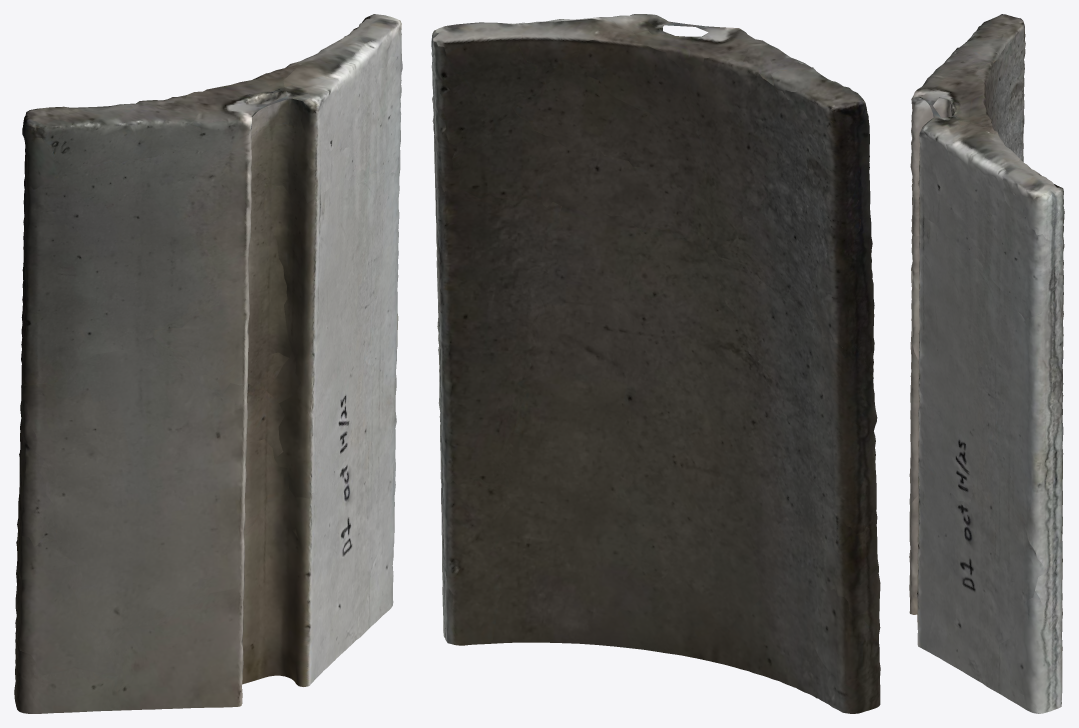
3 renders of one model, left to right at view 1: azimuth 30°, elevation 25°; view 2: azimuth 150°, elevation 25°; view 3: azimuth 270°, elevation 25°, orthographic. The views are drawn at different scales.
Parts seen in each view (by area): view 1: Node; view 2: Node; view 3: Node.
Part boxes in pixels (x1,y1,x2,y2): Node: (14, 14, 402, 713); Node: (431, 14, 880, 713); Node: (909, 14, 1064, 713).
Size of the model in its own units: 0.3391 by 0.4694 by 0.1241.
Materials: 1 (1 with a texture image).
